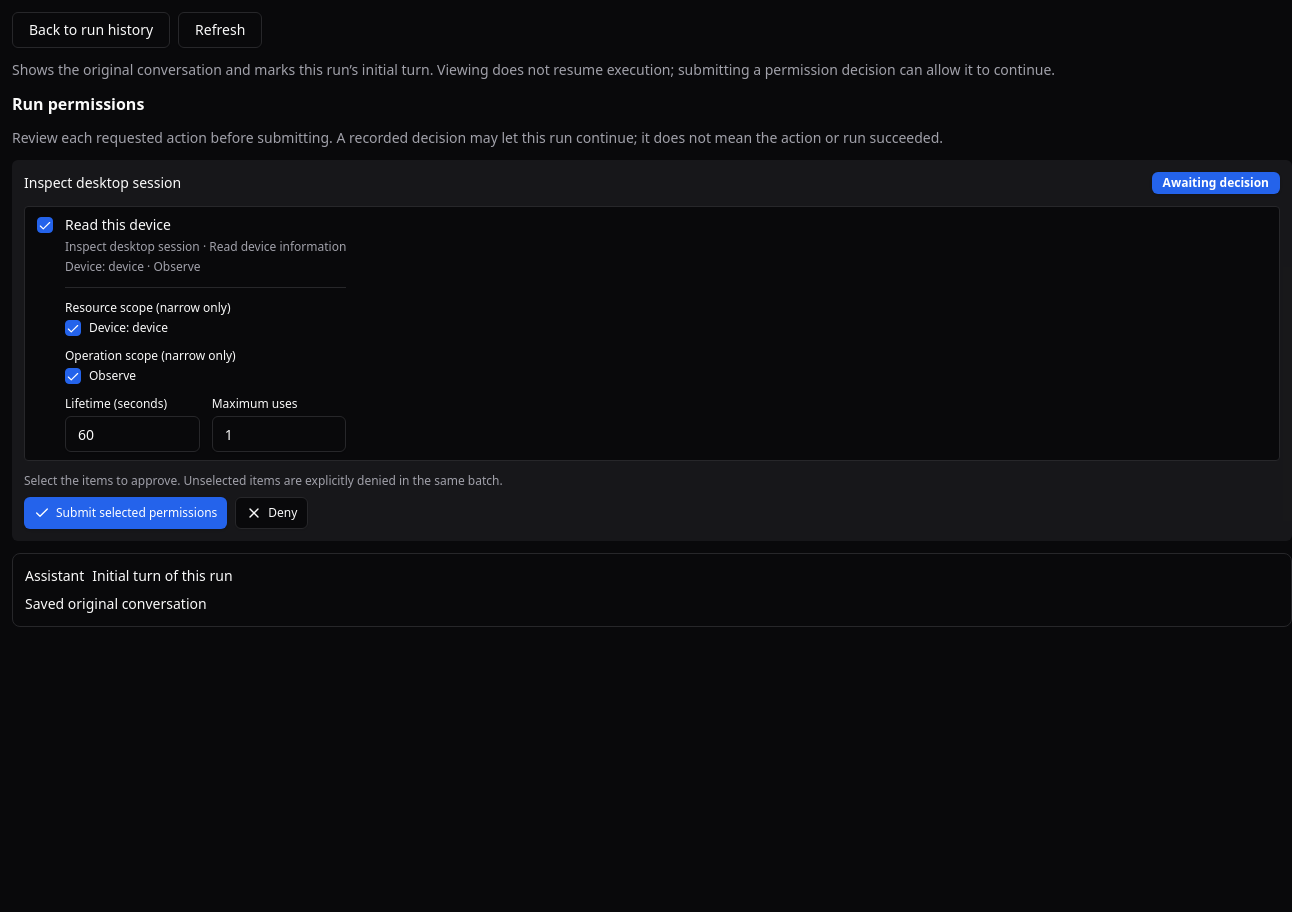
Test: scheduled run conversation › opens the current run approval and reloads the durable decision without a new input
Expected: the text "Saved original conversation" is shown, [25,594,207,613]
Click the button "Submit selected permissions": (126, 513) [24,497,227,529]
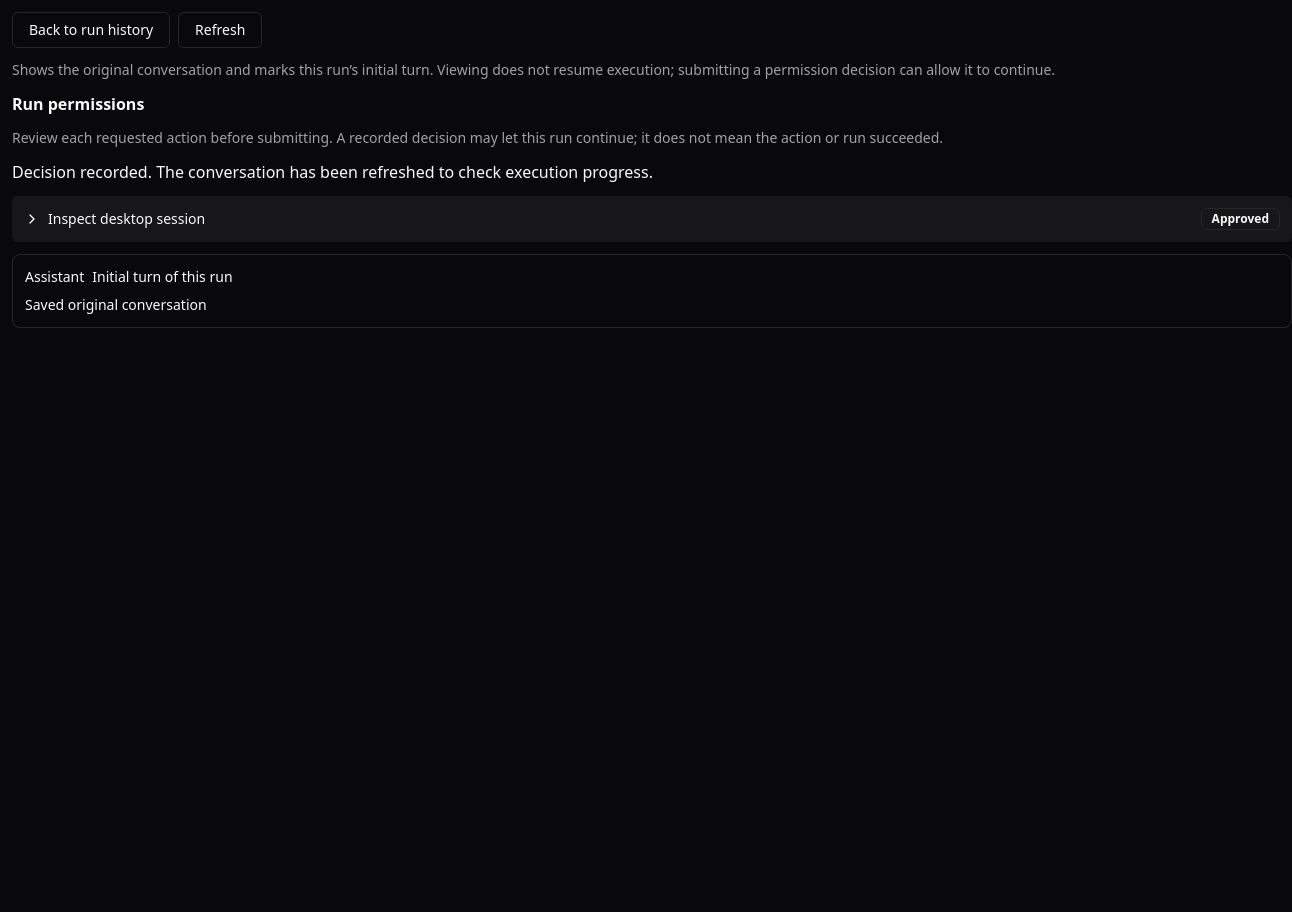
Expected: the text "Saved original conversation" is shown, [25,295,207,314]
Expected: the button "Submit selected permissions" is gone
Expected: the text "Decision recorded. The conversation has been refreshed to check execution progress." is shown, [12,161,653,183]
